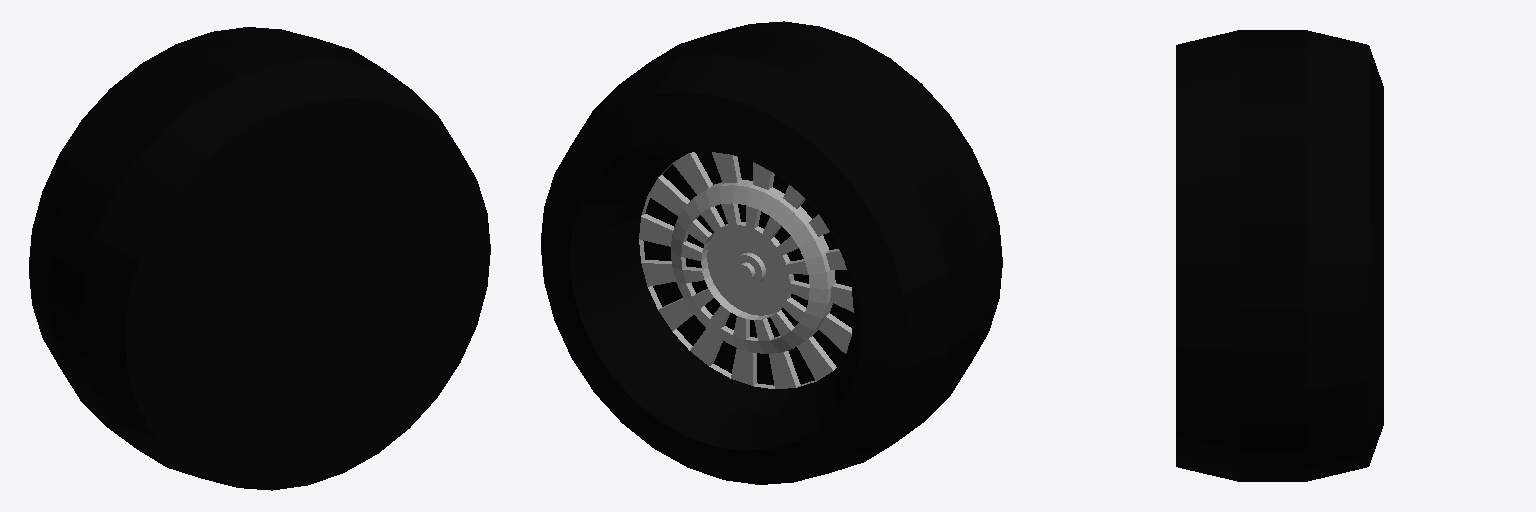
File: WBR-2.obj
3 renders of one model, left to right at view 1: azimuth 30°, elevation 25°; view 2: azimuth 150°, elevation 25°; view 3: azimuth 270°, elevation 25°, orthographic.
Parts seen in each view (by area): view 1: wheel.002; view 2: wheel.002; view 3: wheel.002.
Part boxes in pixels (x1,y1,x2,y2): wheel.002: (29, 27, 490, 490); wheel.002: (541, 21, 1002, 484); wheel.002: (1176, 30, 1383, 481).
Size of the model in its own units: 1.27 by 1.27 by 0.5821.